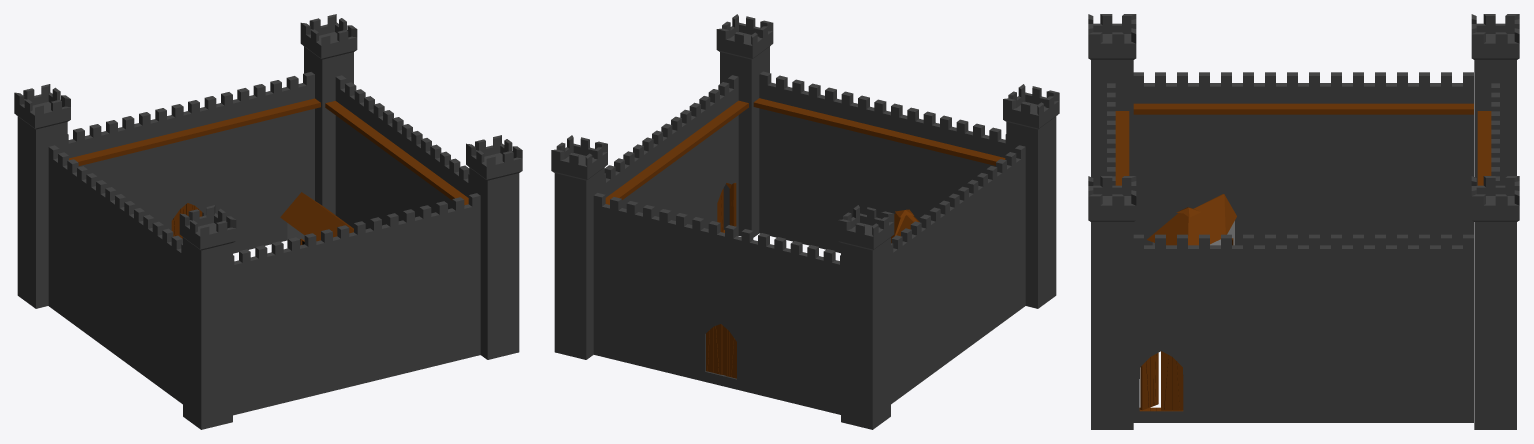
The picture shows the model from 3 angles, left to right: view 1: azimuth 30°, elevation 25°; view 2: azimuth 150°, elevation 25°; view 3: azimuth 270°, elevation 25°; orthographic projection. The views are drawn at different scales.
Visible parts, largest first — view 1: Cube, Cube.004; view 2: Cube, Cube.001, Cube.002; view 3: Cube, Cube.003, Cube.009, Cube.008.
Boxes of the visible parts, x1=… form: Cube: x1=14, y1=14, x2=522, y2=429; Cube.004: x1=280, y1=192, x2=353, y2=248; Cube: x1=551, y1=14, x2=1059, y2=429; Cube.001: x1=706, y1=324, x2=721, y2=374; Cube.002: x1=721, y1=325, x2=736, y2=378; Cube: x1=1088, y1=14, x2=1519, y2=429; Cube.003: x1=1147, y1=194, x2=1236, y2=245; Cube.009: x1=1161, y1=351, x2=1183, y2=410; Cube.008: x1=1140, y1=352, x2=1158, y2=410.
Bounding box in the file's own units: 2025 × 1278 × 2025.
